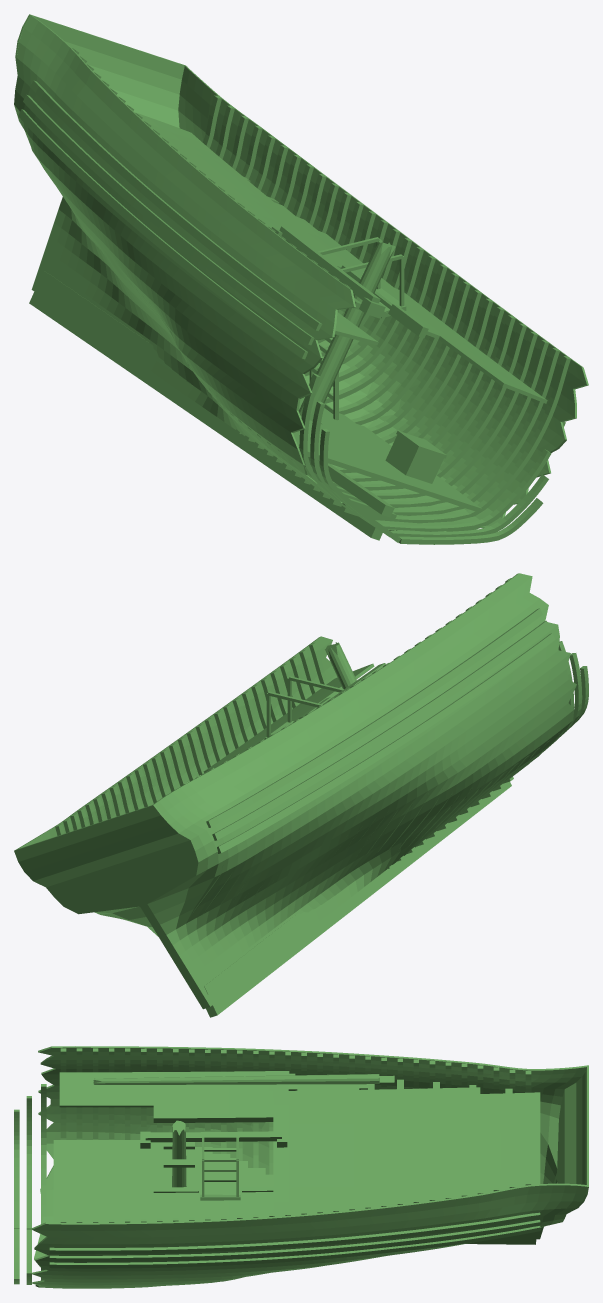
The picture shows the model from 3 angles, top to bottom: view 1: azimuth 30°, elevation 25°; view 2: azimuth 150°, elevation 25°; view 3: azimuth 270°, elevation 25°; orthographic projection. The views are drawn at different scales.
Parts seen in each view (by area): view 1: col_hull_starboard, col_hull_port, col_deck_walk_slab, col_transom, col_fractured_keel, col_hold_walk_slab, col_wale_s_0, col_wale_s_1, col_wale_s_2, col_keelson, col_broken_main_mast, col_frame_29 (+22 smaller); view 2: col_hull_starboard, col_transom, col_hull_port, col_fractured_keel, col_wale_s_0, col_wale_s_1, col_wale_s_2, col_deck_walk_slab, col_keelson, col_broken_main_mast; view 3: col_deck_walk_slab, col_hull_port, col_hull_starboard, col_hold_walk_slab, col_wale_p_0, col_wale_p_1, col_transom, col_wale_p_2, col_fallen_yard, col_ladder_hanger_beam, col_hatch_coaming_s_0, col_broken_main_mast (+13 smaller).
Part boxes in pixels (x1,y1,x2,y2): col_hull_starboard: [14, 15, 355, 505]; col_hull_port: [178, 66, 588, 531]; col_deck_walk_slab: [135, 112, 547, 403]; col_transom: [15, 14, 186, 290]; col_fractured_keel: [29, 291, 382, 540]; col_hold_walk_slab: [293, 397, 481, 512]; col_wale_s_0: [30, 80, 322, 330]; col_wale_s_1: [23, 94, 314, 345]; col_wale_s_2: [18, 109, 307, 359]; col_keelson: [39, 270, 394, 517]; col_broken_main_mast: [298, 239, 395, 420]; col_frame_29: [290, 283, 570, 523]; col_hull_starboard: [146, 573, 576, 1007]; col_transom: [14, 804, 209, 1008]; col_hull_port: [14, 636, 339, 1009]; col_fractured_keel: [206, 781, 511, 1017]; col_wale_s_0: [206, 608, 542, 827]; col_wale_s_1: [212, 620, 549, 840]; col_wale_s_2: [217, 633, 555, 853]; col_deck_walk_slab: [201, 663, 374, 775]; col_keelson: [204, 894, 336, 994]; col_broken_main_mast: [325, 642, 356, 689]; col_deck_walk_slab: [59, 1071, 540, 1222]; col_hull_port: [32, 1182, 586, 1288]; col_hull_starboard: [38, 1046, 586, 1216]; col_hold_walk_slab: [53, 1140, 273, 1222]; col_wale_p_0: [49, 1212, 540, 1254]; col_wale_p_1: [49, 1220, 540, 1261]; col_transom: [538, 1065, 588, 1238]; col_wale_p_2: [49, 1226, 540, 1268]; col_fallen_yard: [93, 1074, 379, 1084]; col_ladder_hanger_beam: [145, 1131, 281, 1142]; col_hatch_coaming_s_0: [153, 1113, 273, 1122]; col_broken_main_mast: [172, 1120, 186, 1187].
Bounding box in the file's own units: 6.21 × 5.46 × 14.65.
